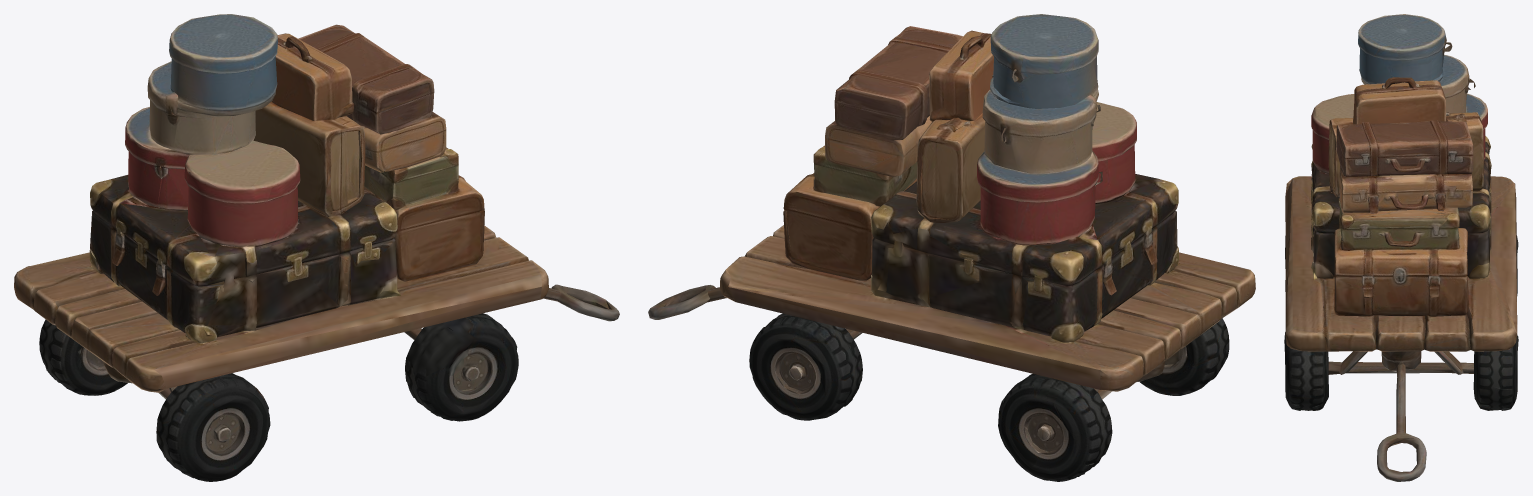
Rendered from luggageCart.glb.
The picture shows the model from 3 angles, left to right: view 1: azimuth 30°, elevation 25°; view 2: azimuth 150°, elevation 25°; view 3: azimuth 270°, elevation 25°; orthographic projection. The views are drawn at different scales.
Size of the model in its own units: 1.9 by 1.29 by 0.8933.
Materials: 1 (1 with a texture image).
